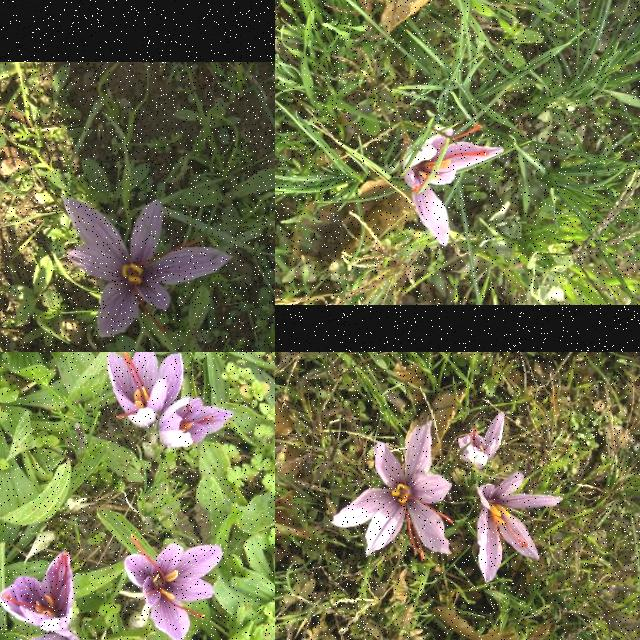flower: (62, 196, 232, 338), (330, 421, 456, 562), (403, 126, 505, 247), (124, 535, 223, 640), (477, 474, 565, 584), (0, 551, 75, 631), (107, 352, 185, 428), (158, 398, 234, 448), (458, 412, 504, 470)
